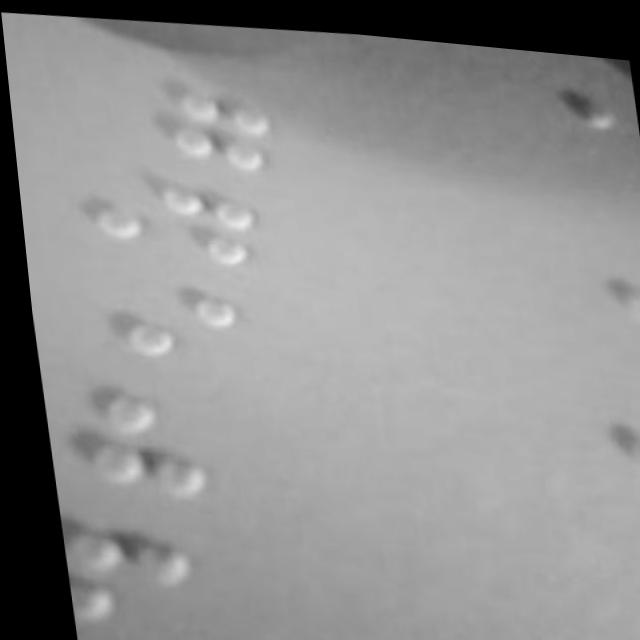braiile: (50, 155, 276, 275), (38, 262, 250, 385), (33, 374, 219, 508), (78, 59, 284, 173), (48, 504, 196, 640), (539, 257, 640, 366), (541, 373, 640, 482), (551, 496, 640, 597), (529, 597, 640, 640)
